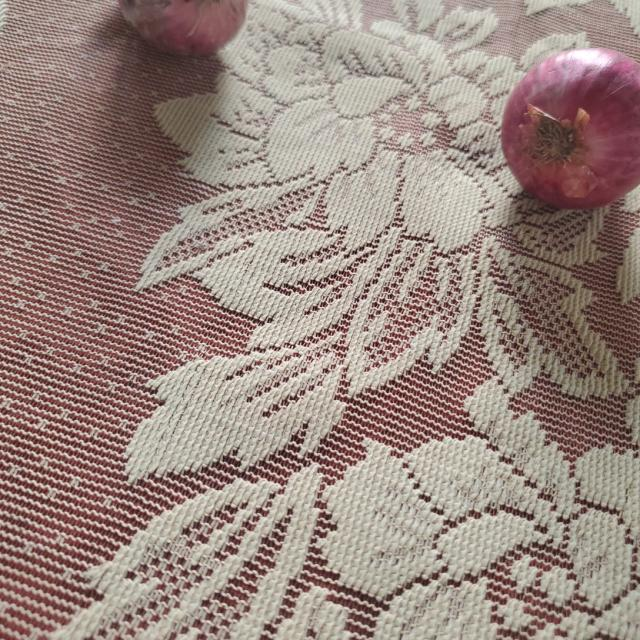onion: (502, 50, 638, 212), (118, 0, 246, 55)
